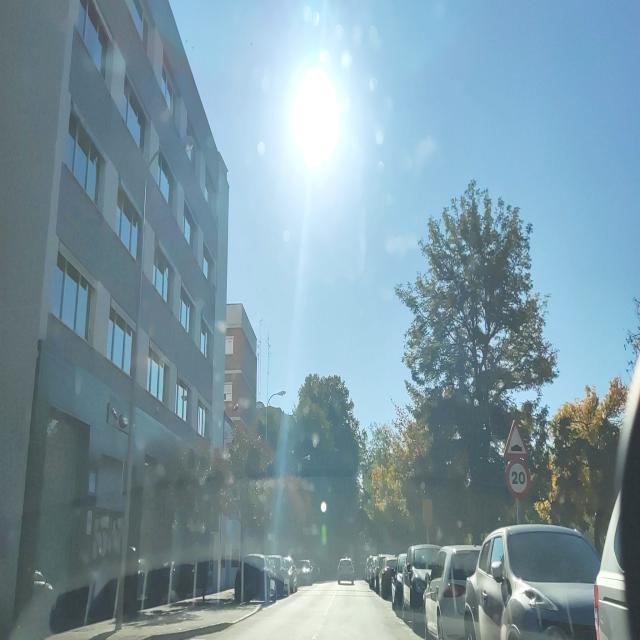car: (463, 521, 602, 637), (423, 544, 482, 638), (402, 542, 441, 616), (235, 554, 276, 603), (390, 552, 408, 610), (267, 554, 290, 598), (378, 556, 398, 600), (296, 558, 314, 586), (337, 557, 355, 585), (284, 557, 298, 592), (367, 556, 377, 586)
